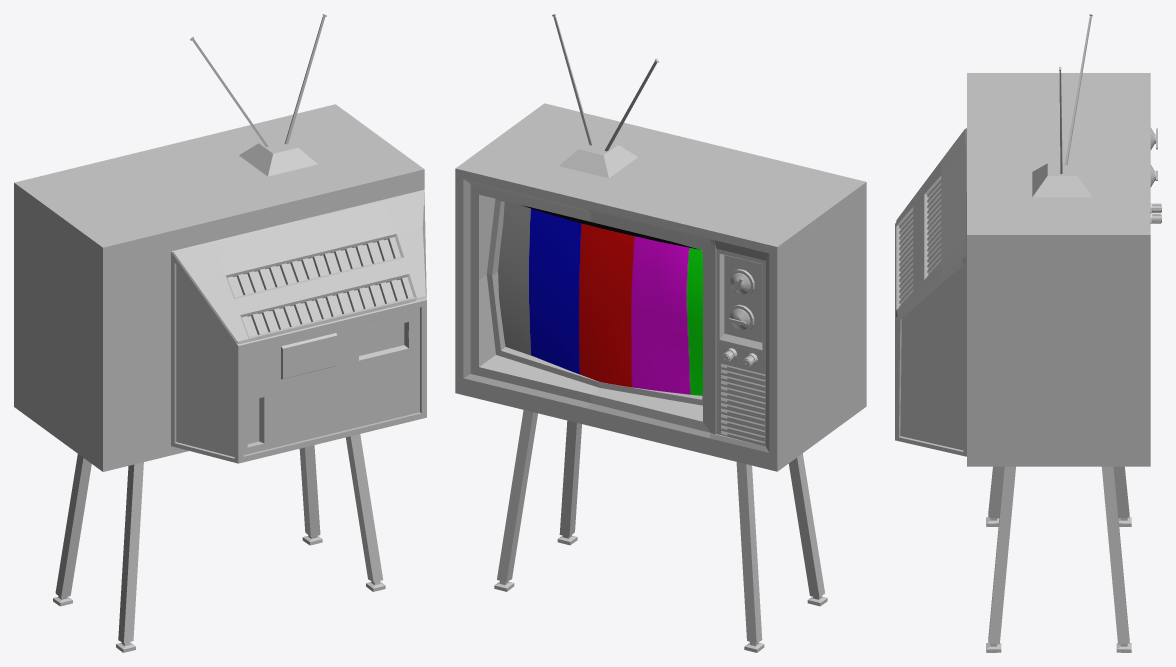
The model's file is CRT TV.fbx.
3 views of the same model, side by side, from view 1: azimuth 30°, elevation 25°; view 2: azimuth 150°, elevation 25°; view 3: azimuth 270°, elevation 25° (orthographic). The views are drawn at different scales.
Visible parts, largest first — view 1: Back End, Front, Legs, Antenna; view 2: Front, Screen, Legs, Exhaust Front, Antenna, Large Dial 1, Large Dial 2; view 3: Front, Back End, Legs, Antenna.
Part boxes in pixels (<box>): Back End: <box>103,169,426,471</box>; Front: <box>14,104,423,471</box>; Legs: <box>53,434,385,652</box>; Antenna: <box>190,14,326,176</box>; Front: <box>455,103,866,471</box>; Screen: <box>498,202,702,395</box>; Legs: <box>494,410,827,652</box>; Exhaust Front: <box>719,340,765,446</box>; Antenna: <box>552,14,658,178</box>; Large Dial 1: <box>728,269,754,296</box>; Large Dial 2: <box>728,304,754,332</box>; Front: <box>967,73,1150,466</box>; Back End: <box>895,128,966,456</box>; Legs: <box>986,466,1131,652</box>; Antenna: <box>1032,14,1092,197</box>.
Bounding box in the file's own units: 600 × 989 × 418.
